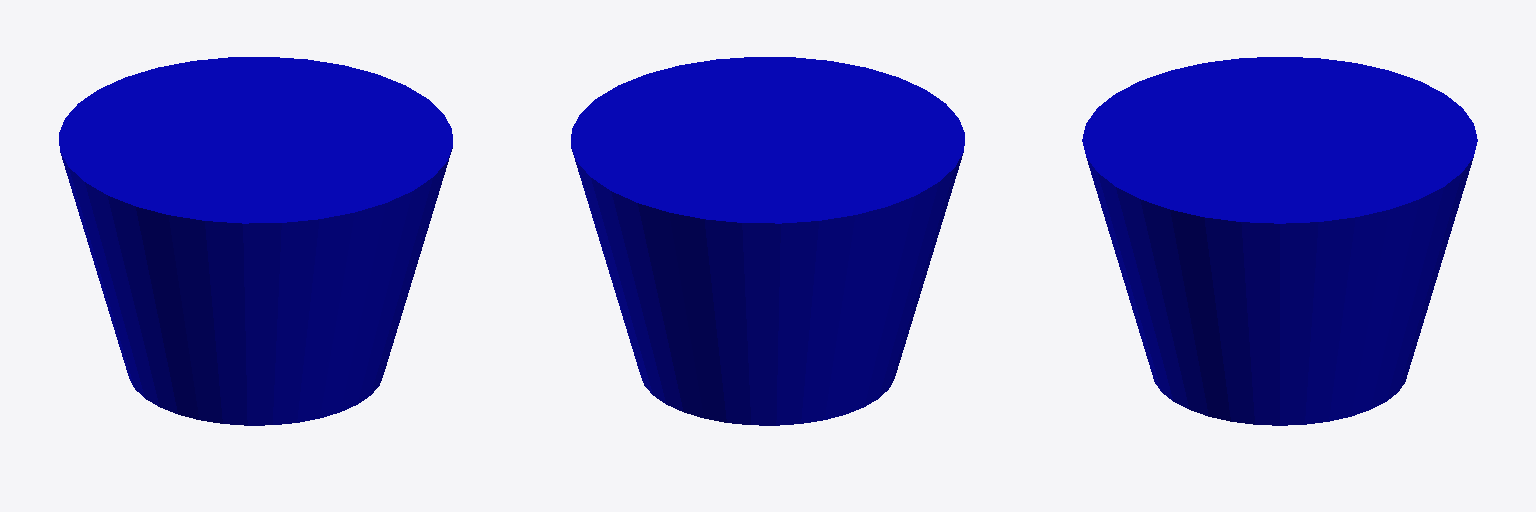
File: water.obj
The picture shows the model from 3 angles: view 1: azimuth 30°, elevation 25°; view 2: azimuth 150°, elevation 25°; view 3: azimuth 270°, elevation 25°; orthographic projection.
Visible parts, largest first — view 1: Cylinder; view 2: Cylinder; view 3: Cylinder.
Part boxes in pixels (bbox=[...]): Cylinder: bbox=[59, 57, 452, 425]; Cylinder: bbox=[571, 57, 964, 425]; Cylinder: bbox=[1082, 57, 1477, 425].
Size of the model in its own units: 3.1 by 2 by 3.1.